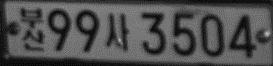0: (200, 13, 224, 56)
3: (141, 11, 166, 55)
4: (229, 14, 256, 57)
5: (172, 12, 196, 56)
9: (75, 8, 99, 53), (47, 8, 71, 51)
부산_V: (19, 6, 45, 50)
사: (106, 13, 130, 51)
